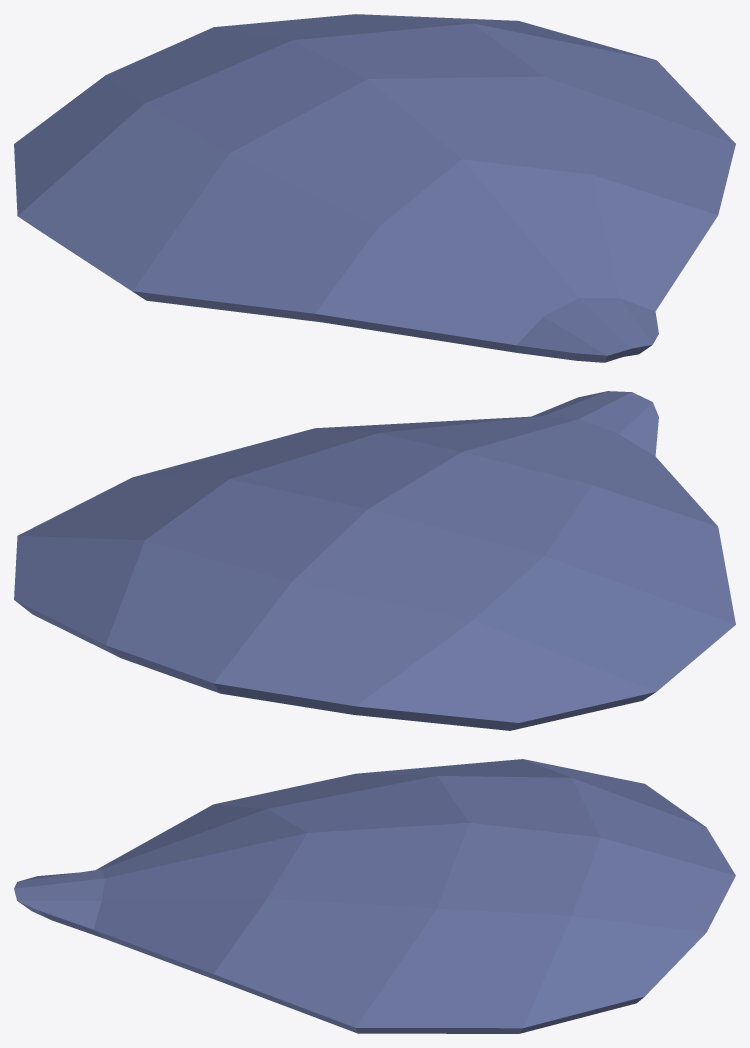
File: Shells2.glb
The picture shows the model from 3 angles, top to bottom: view 1: azimuth 30°, elevation 25°; view 2: azimuth 150°, elevation 25°; view 3: azimuth 270°, elevation 25°; orthographic projection. The views are drawn at different scales.
Parts seen in each view (by area): view 1: Shells2; view 2: Shells2; view 3: Shells2.
Part boxes in pixels (box(x1,y1,x2,y2)): Shells2: box(14, 14, 735, 362); Shells2: box(14, 391, 735, 730); Shells2: box(14, 759, 735, 1033).
Size of the model in its own units: 199 by 31.16 by 226.
